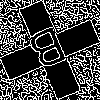B: (25, 25, 74, 80)
